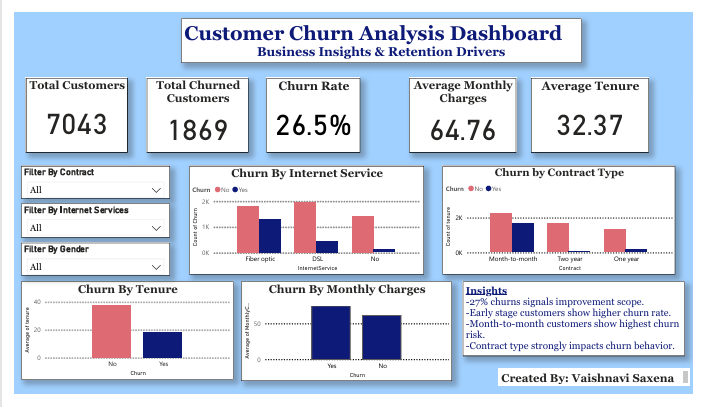

This screenshot's page, from the dashboard's own definition file:
{"tool":"powerbi","page":{"name":"Page 1","canvas":[1280,720],"ordinal":0},"visuals":[{"type":"card","title":"Total Churned Customers","fields":{"Values":["CountNonNull(churn csv.tenure)"]},"box":[248.6,122.9,192,140.9],"z":0},{"type":"card","title":"Churn Rate","fields":{"Values":["churn csv.Churn Rate%"]},"box":[475.1,122.9,176.8,140.9],"z":1000},{"type":"card","title":"Average Monthly Charges","fields":{"Values":["Avg(churn csv.MonthlyCharges)"]},"box":[744.4,122.9,201.6,140.9],"z":2000},{"type":"card","title":"Average Tenure","fields":{"Values":["Avg(churn csv.tenure)"]},"box":[973.7,122.9,222.4,140.9],"z":3000},{"type":"clusteredColumnChart","title":" Churn by Contract Type","fields":{"Category":["churn csv.Contract"],"Series":["churn csv.Churn"],"Y":["CountNonNull(churn csv.tenure)"]},"box":[806.6,288.7,439.2,205.8],"z":4000},{"type":"clusteredColumnChart","title":" Churn By Internet Service","fields":{"Category":["churn csv.InternetService"],"Y":["CountNonNull(churn csv.Churn)"],"Series":["churn csv.Churn"]},"box":[328.7,288.7,443.3,205.8],"z":5000},{"type":"clusteredColumnChart","title":"Churn By Monthly Charges","fields":{"Category":["churn csv.Churn"],"Y":["Avg(churn csv.MonthlyCharges)"]},"box":[426.8,506.9,397.8,187.8],"z":6000},{"type":"clusteredColumnChart","title":"Churn By Tenure","fields":{"Category":["churn csv.Churn"],"Y":["Avg(churn csv.tenure)"]},"box":[12.4,506.9,400.5,185.1],"z":7000},{"type":"textbox","box":[313.5,11,755.5,84.2],"z":8000},{"type":"textbox","box":[912.5,672.4,362.3,32.9],"z":9000},{"type":"card","title":"Total Customers","fields":{"Values":["churn csv.Total Customers"]},"box":[20.7,122.9,192,140.9],"z":10000},{"type":"slicer","title":"Filter By Contract","fields":{"Values":["churn csv.Contract"]},"box":[12.4,288.7,280.4,62.1],"z":11000},{"type":"slicer","title":"Filter By Internet Services","fields":{"Values":["churn csv.Contract"]},"box":[12.4,360.5,280.4,63.5],"z":12000},{"type":"slicer","title":"Filter By Gender","fields":{"Values":["churn csv.Contract"]},"box":[12.4,433.7,280.4,62.1],"z":13000},{"type":"textbox","box":[845.2,506.9,418.5,140.9],"z":14000}]}

Visuals, with their boxes in screenshot pixels (x1, y1, x2, y2), scaled from the page's 1280x720 canvas onto the 705x407 screenshot:
"Total Churned Customers" card: region(137, 69, 243, 149)
"Churn Rate" card: region(262, 69, 359, 149)
"Average Monthly Charges" card: region(410, 69, 521, 149)
"Average Tenure" card: region(536, 69, 659, 149)
" Churn by Contract Type" clusteredColumnChart: region(444, 163, 686, 280)
" Churn By Internet Service" clusteredColumnChart: region(181, 163, 425, 280)
"Churn By Monthly Charges" clusteredColumnChart: region(235, 287, 454, 393)
"Churn By Tenure" clusteredColumnChart: region(7, 287, 227, 391)
textbox: region(173, 6, 589, 54)
textbox: region(503, 380, 702, 399)
"Total Customers" card: region(11, 69, 117, 149)
"Filter By Contract" slicer: region(7, 163, 161, 198)
"Filter By Internet Services" slicer: region(7, 204, 161, 240)
"Filter By Gender" slicer: region(7, 245, 161, 280)
textbox: region(466, 287, 696, 366)
